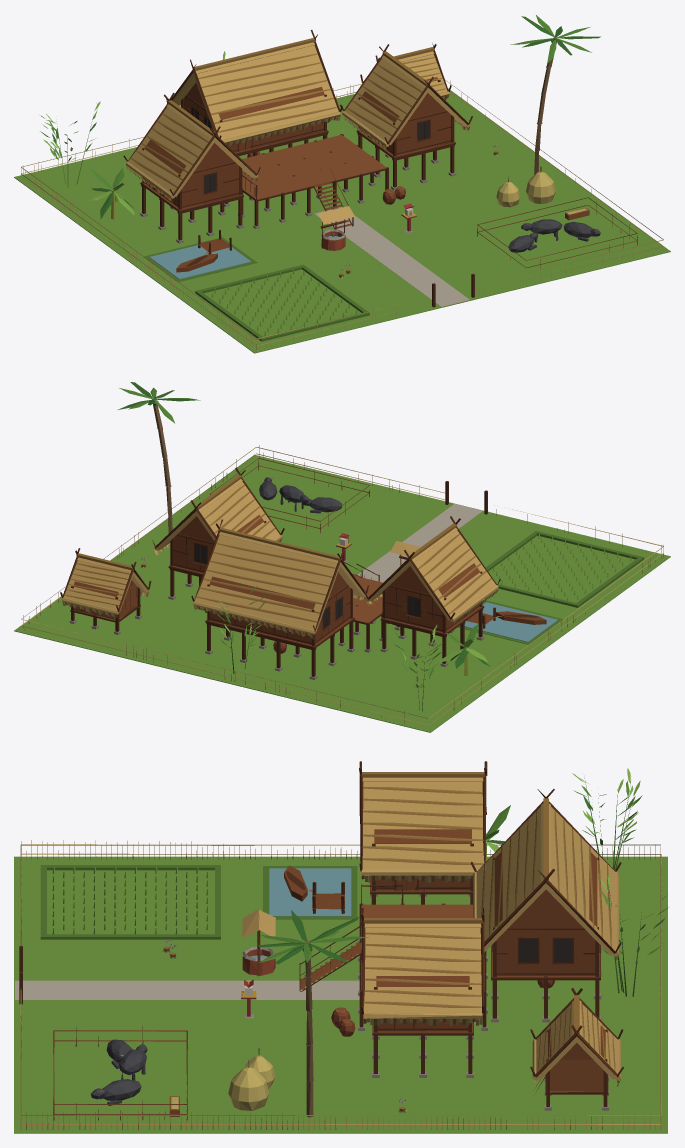
The model's file is home_5.glb.
3 renders of one model, top to bottom at view 1: azimuth 30°, elevation 25°; view 2: azimuth 150°, elevation 25°; view 3: azimuth 270°, elevation 25°, orthographic. The views are drawn at different scales.
Parts seen in each view (by area): view 1: body, windows; view 2: body, windows; view 3: body, windows.
Boxes of the visible parts, x1,y1,x2,y2 form: body: (14, 15, 670, 353); windows: (191, 108, 429, 192); body: (14, 382, 670, 732); windows: (194, 544, 419, 630); body: (14, 761, 668, 1133); windows: (430, 875, 572, 962).
Size of the model in its own units: 34.09 by 11.17 by 32.04.
